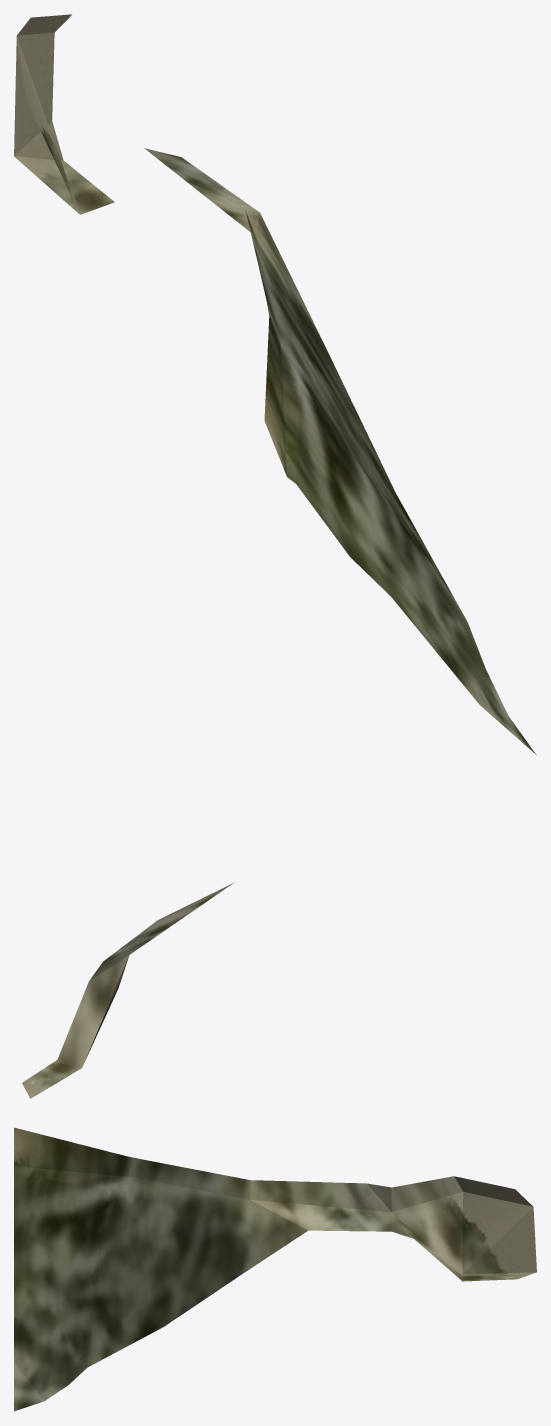
3 views of the same model, one above another, from view 1: azimuth 30°, elevation 25°; view 2: azimuth 150°, elevation 25°; view 3: azimuth 270°, elevation 25° (orthographic). The views are drawn at different scales.
Size of the model in its own units: 0.7298 by 1.03 by 2.28.
Materials: 1 (1 with a texture image).
